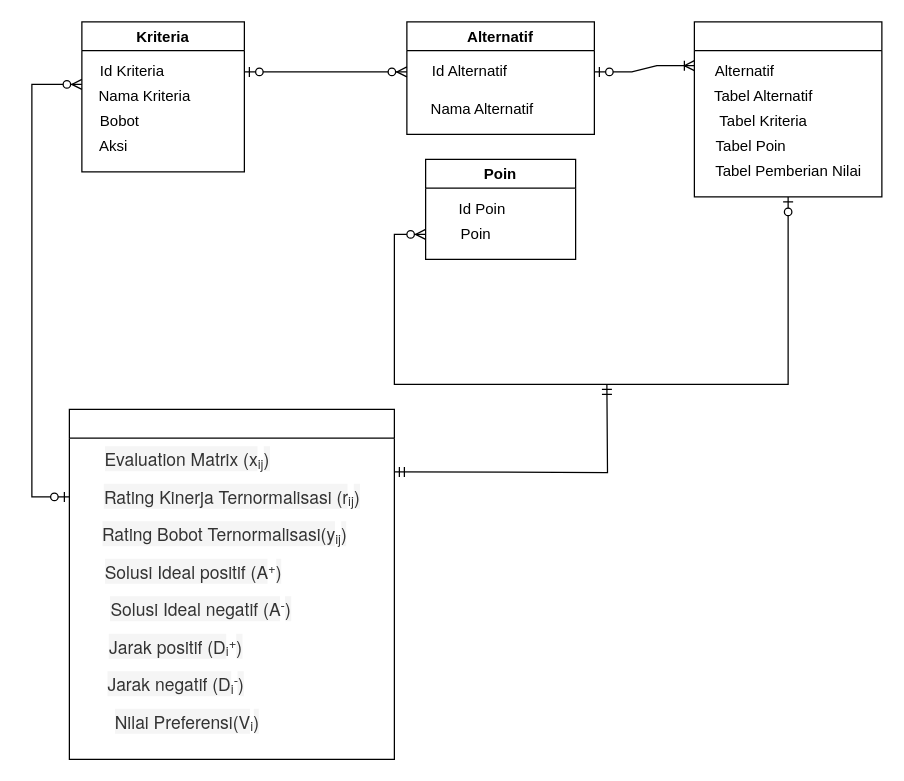
Some shapes in this 904 by 781 pixel diagram are drawn without their labels. The shapes that lost their labels are listed below. From the top down, each one's box as (x1, y1, x2, y2) in pixels, then its label:
(693, 21, 882, 197): Nilai Matriks
(68, 408, 394, 759): Hasil Topsis
